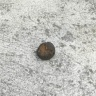Dog: (37, 42, 55, 60)
